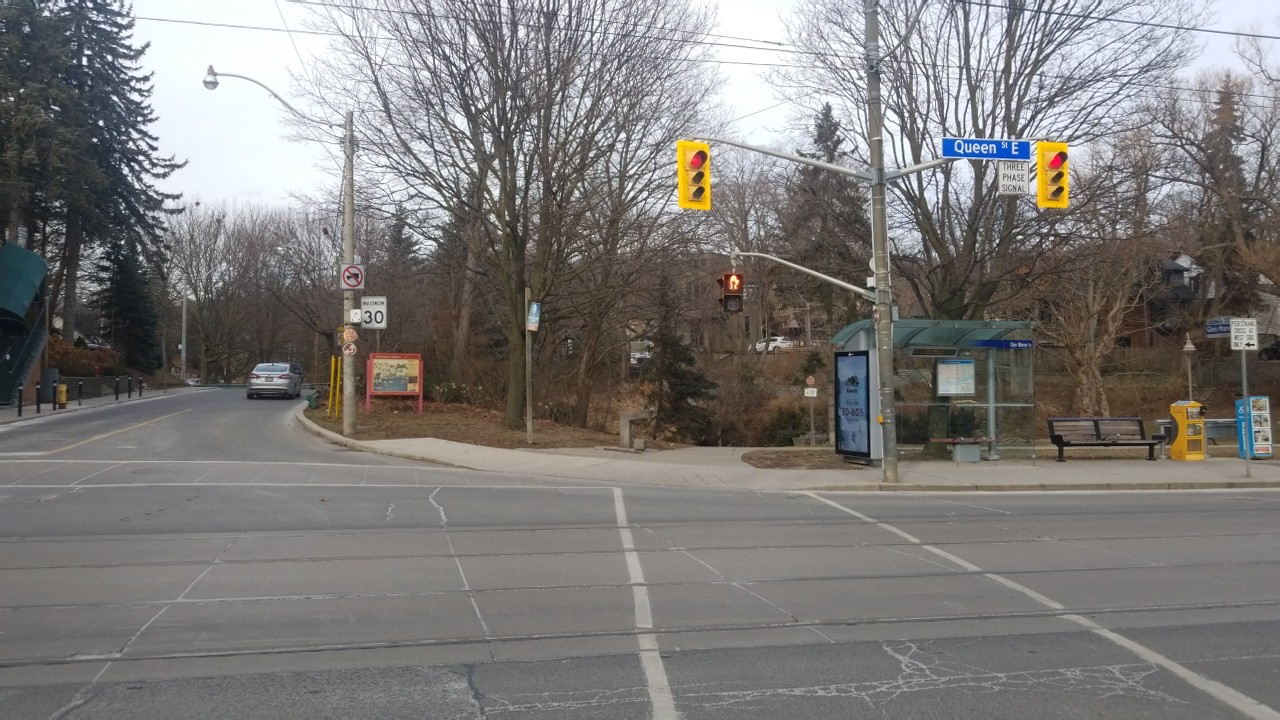light: (722, 271, 744, 313)
